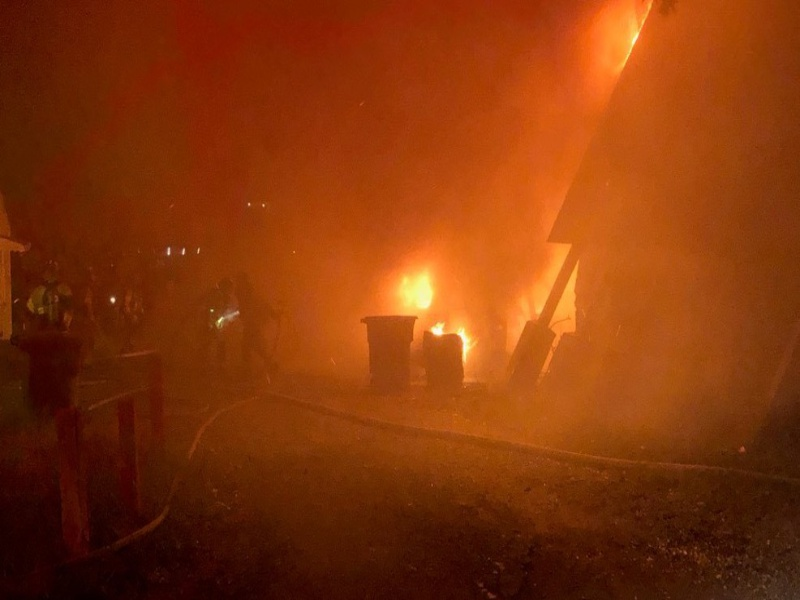fire: (384, 267, 446, 316), (423, 331, 467, 372)
